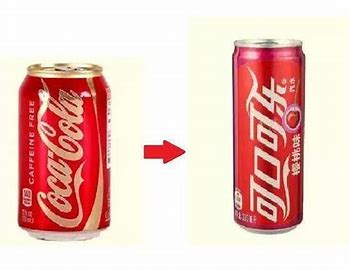Coke: (16, 61, 114, 244), (230, 37, 308, 235)
